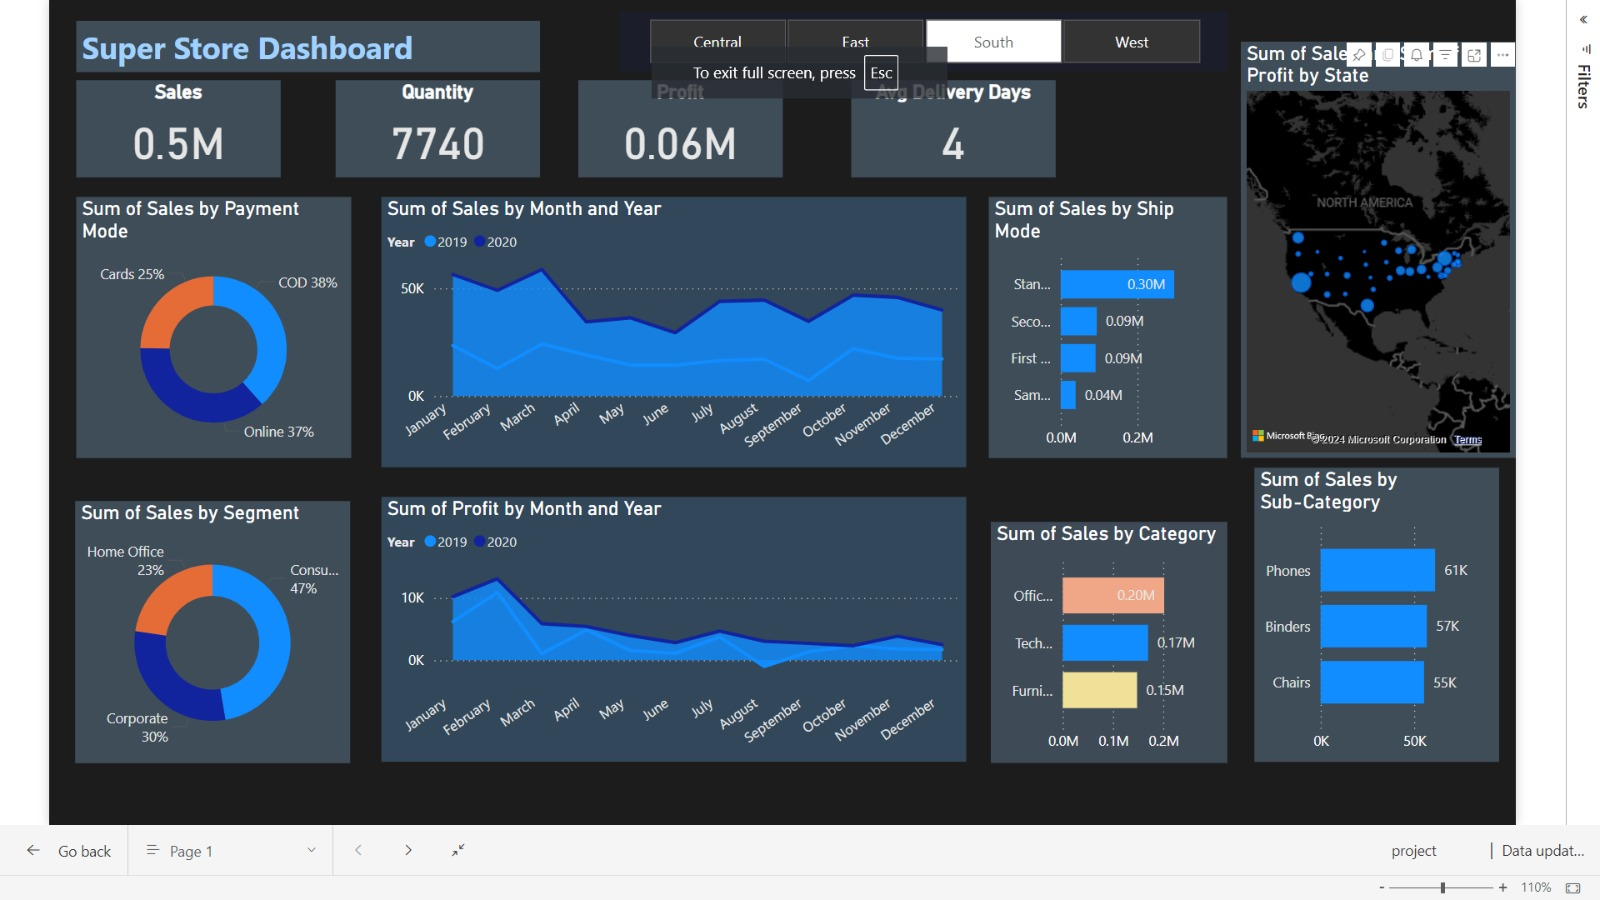

The dashboard page shown, as its layout file describes it:
{"tool":"powerbi","page":{"name":"Page 1","canvas":[1280,720],"ordinal":0},"visuals":[{"type":"clusteredBarChart","fields":{"Category":["SuperStore Sales DataSet xlsx - Sheet1.Category"],"Y":["Sum(SuperStore Sales DataSet xlsx - Sheet1.Sales)"]},"box":[821.7,455,206.7,210],"z":0},{"type":"clusteredBarChart","fields":{"Category":["SuperStore Sales DataSet xlsx - Sheet1.Sub-Category"],"Y":["Sum(SuperStore Sales DataSet xlsx - Sheet1.Sales)"]},"box":[1051.7,408.3,213.3,256.7],"z":1000},{"type":"clusteredBarChart","fields":{"Category":["SuperStore Sales DataSet xlsx - Sheet1.Ship Mode"],"Y":["Sum(SuperStore Sales DataSet xlsx - Sheet1.Sales)"]},"box":[820,171.7,208.3,228.3],"z":2000},{"type":"stackedAreaChart","fields":{"Y":["Sum(SuperStore Sales DataSet xlsx - Sheet1.Sales)"],"Category":["SuperStore Sales DataSet xlsx - Sheet1.Order Date.Variation.Date Hierarchy.Month","SuperStore Sales DataSet xlsx - Sheet1.Order Date.Variation.Date Hierarchy.Day"],"Series":["SuperStore Sales DataSet xlsx - Sheet1.Order Date.Variation.Date Hierarchy.Year"]},"box":[290,172,510,236],"z":3000},{"type":"stackedAreaChart","fields":{"Category":["SuperStore Sales DataSet xlsx - Sheet1.Order Date.Variation.Date Hierarchy.Month","SuperStore Sales DataSet xlsx - Sheet1.Order Date.Variation.Date Hierarchy.Day"],"Series":["SuperStore Sales DataSet xlsx - Sheet1.Order Date.Variation.Date Hierarchy.Year"],"Y":["Sum(SuperStore Sales DataSet xlsx - Sheet1.Profit)"]},"box":[290,434,510,231],"z":4000},{"type":"slicer","fields":{"Values":["SuperStore Sales DataSet xlsx - Sheet1.Region"]},"box":[498.3,10,530,51.7],"z":5000},{"type":"donutChart","fields":{"Category":["SuperStore Sales DataSet xlsx - Sheet1.Segment"],"Y":["Sum(SuperStore Sales DataSet xlsx - Sheet1.Sales)"]},"box":[22.9,437.1,240,228.6],"z":6000},{"type":"donutChart","fields":{"Category":["SuperStore Sales DataSet xlsx - Sheet1.Payment Mode"],"Y":["Sum(SuperStore Sales DataSet xlsx - Sheet1.Sales)"]},"box":[23.3,171.7,240,228.3],"z":7000},{"type":"map","fields":{"Category":["SuperStore Sales DataSet xlsx - Sheet1.State"],"Size":["Sum(SuperStore Sales DataSet xlsx - Sheet1.Sales)"]},"box":[1040,36.7,240,363.3],"z":8000},{"type":"textbox","box":[23.3,18.3,405,45],"z":9000},{"type":"card","title":"Sales","fields":{"Values":["Sum(SuperStore Sales DataSet xlsx - Sheet1.Sales)"]},"box":[23.3,70,178.3,85],"z":10000},{"type":"card","title":"Quantity","fields":{"Values":["Sum(SuperStore Sales DataSet xlsx - Sheet1.Quantity)"]},"box":[250,70,178.3,85],"z":11000},{"type":"card","title":"Profit","fields":{"Values":["Sum(SuperStore Sales DataSet xlsx - Sheet1.Profit)"]},"box":[461.7,70,178.3,85],"z":12000},{"type":"card","title":"Avg Delivery Days","fields":{"Values":["Avg(Sheet1.AvgDelivery)"]},"box":[700,70,178.3,85],"z":13000},{"type":"qnaVisual","box":[878.3,70,150,150],"z":14000}]}

Visuals, with their boxes on the page's 1280x720 design canvas (x1, y1, x2, y2). These are canvas units, not pixel positions in the 1600x900 screenshot, which may show the page scaled, cropped or inside an application window:
clusteredBarChart - SuperStore Sales DataSet xlsx - Sheet1.Category x Sum(SuperStore Sales DataSet xlsx - Sheet1.Sales): (822, 455, 1028, 665)
clusteredBarChart - SuperStore Sales DataSet xlsx - Sheet1.Sub-Category x Sum(SuperStore Sales DataSet xlsx - Sheet1.Sales): (1052, 408, 1265, 665)
clusteredBarChart - SuperStore Sales DataSet xlsx - Sheet1.Ship Mode x Sum(SuperStore Sales DataSet xlsx - Sheet1.Sales): (820, 172, 1028, 400)
stackedAreaChart - Sum(SuperStore Sales DataSet xlsx - Sheet1.Sales) x SuperStore Sales DataSet xlsx - Sheet1.Order Date.Variation.Date Hierarchy.Month: (290, 172, 800, 408)
stackedAreaChart - SuperStore Sales DataSet xlsx - Sheet1.Order Date.Variation.Date Hierarchy.Month x SuperStore Sales DataSet xlsx - Sheet1.Order Date.Variation.Date Hierarchy.Day: (290, 434, 800, 665)
slicer - SuperStore Sales DataSet xlsx - Sheet1.Region: (498, 10, 1028, 62)
donutChart - SuperStore Sales DataSet xlsx - Sheet1.Segment x Sum(SuperStore Sales DataSet xlsx - Sheet1.Sales): (23, 437, 263, 666)
donutChart - SuperStore Sales DataSet xlsx - Sheet1.Payment Mode x Sum(SuperStore Sales DataSet xlsx - Sheet1.Sales): (23, 172, 263, 400)
map - SuperStore Sales DataSet xlsx - Sheet1.State x Sum(SuperStore Sales DataSet xlsx - Sheet1.Sales): (1040, 37, 1280, 400)
textbox: (23, 18, 428, 63)
"Sales" card: (23, 70, 202, 155)
"Quantity" card: (250, 70, 428, 155)
"Profit" card: (462, 70, 640, 155)
"Avg Delivery Days" card: (700, 70, 878, 155)
qnaVisual: (878, 70, 1028, 220)
